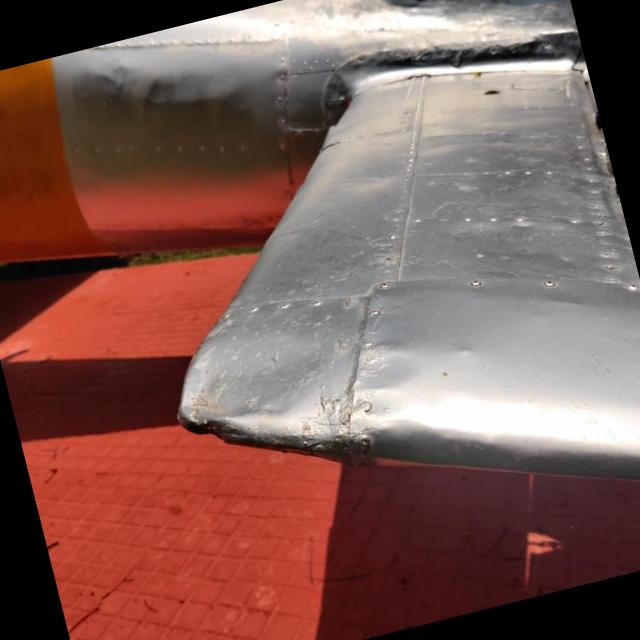Dent: (179, 300, 357, 451)
